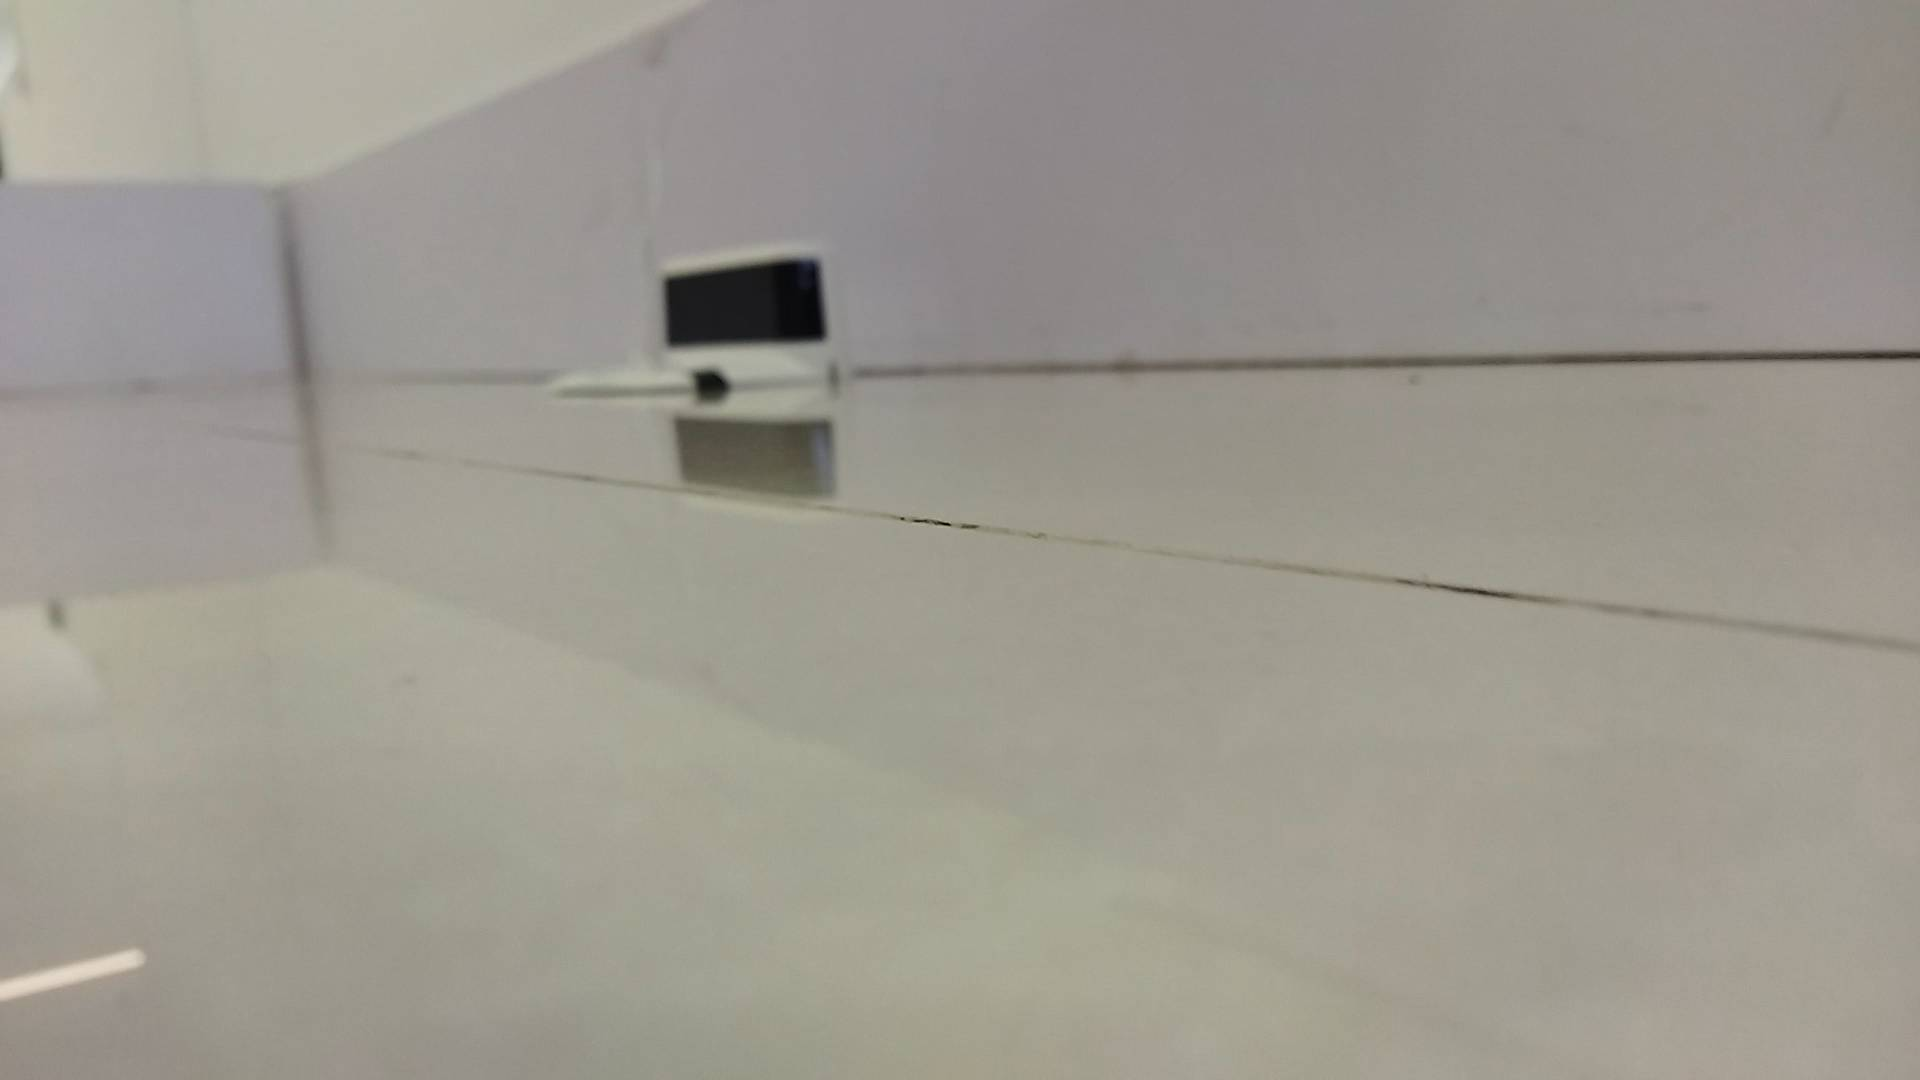recharge seat: (547, 240, 858, 401)
